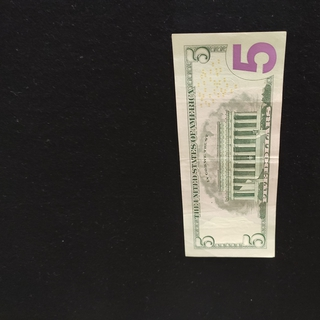5USDBack: (170, 30, 286, 257)
